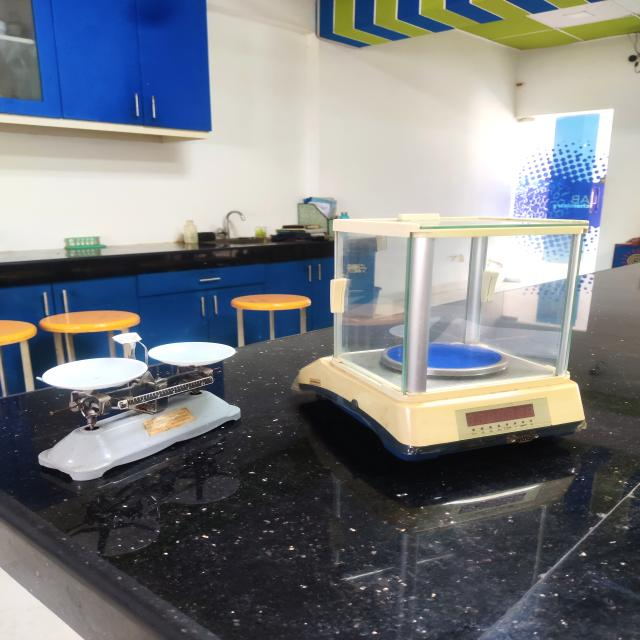Mechanical_Balance_Scale: (17, 312, 267, 509)
Precision_Weight_Scale: (288, 184, 623, 486)
